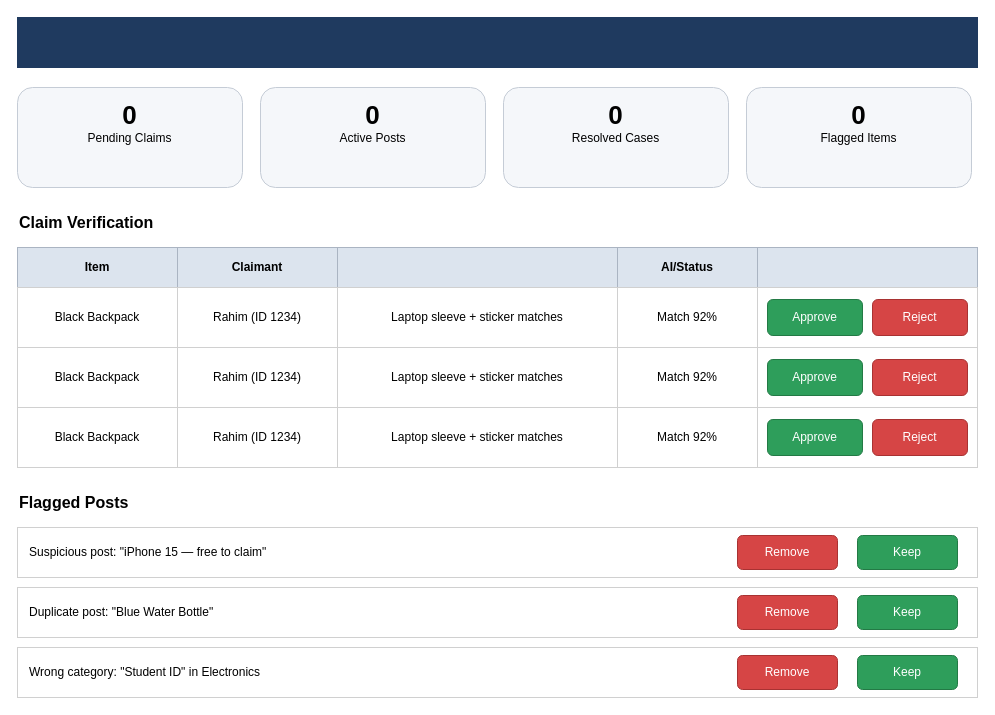
This 995x715 diagram has some shape labels left out. Each missing label, with the centre of its shape:
Action: the point at 867,267
Admin / Moderator Panel: the point at 497,42
Proof Summary: the point at 477,267
